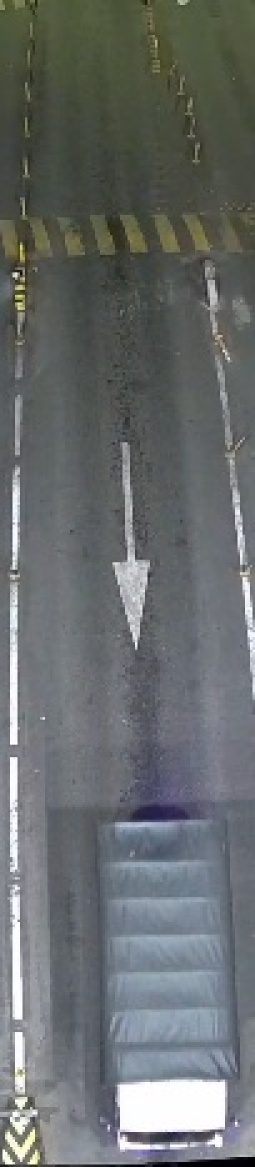truck: (86, 792, 249, 1162)
